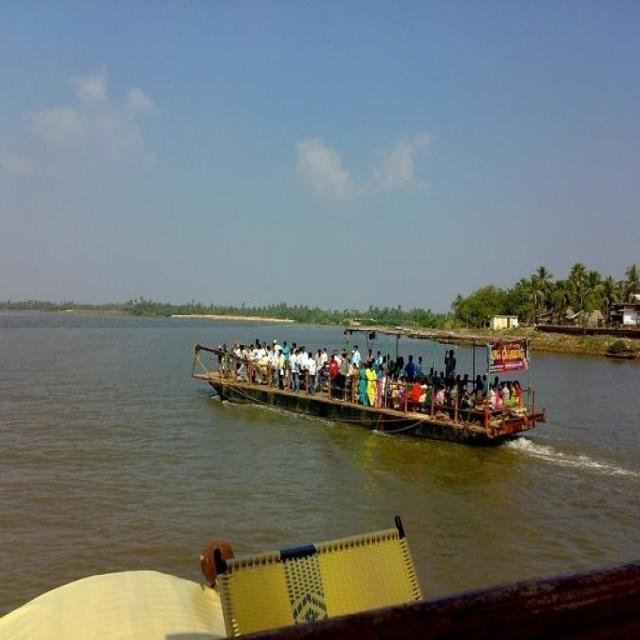boat: (186, 318, 536, 448)
